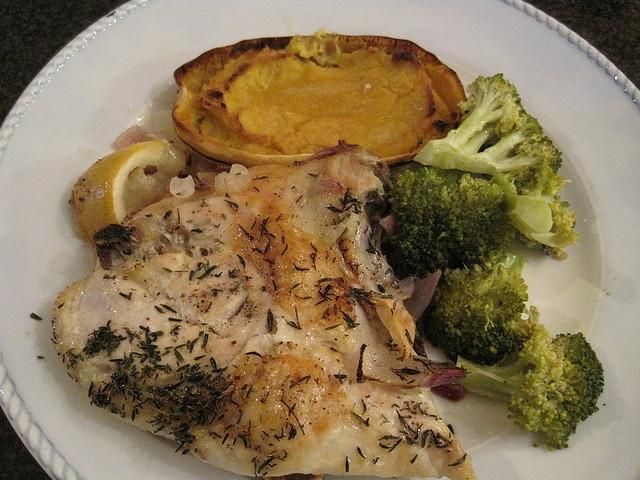broccoli: (454, 326, 604, 450), (413, 73, 562, 182), (382, 166, 516, 280), (418, 253, 540, 366), (489, 172, 553, 241)
lemon: (72, 139, 168, 241)
onion: (357, 344, 466, 390), (403, 269, 442, 324), (293, 139, 359, 166), (430, 382, 470, 403), (397, 276, 421, 302), (314, 174, 342, 193), (378, 214, 394, 242)
potato: (172, 28, 466, 169)
